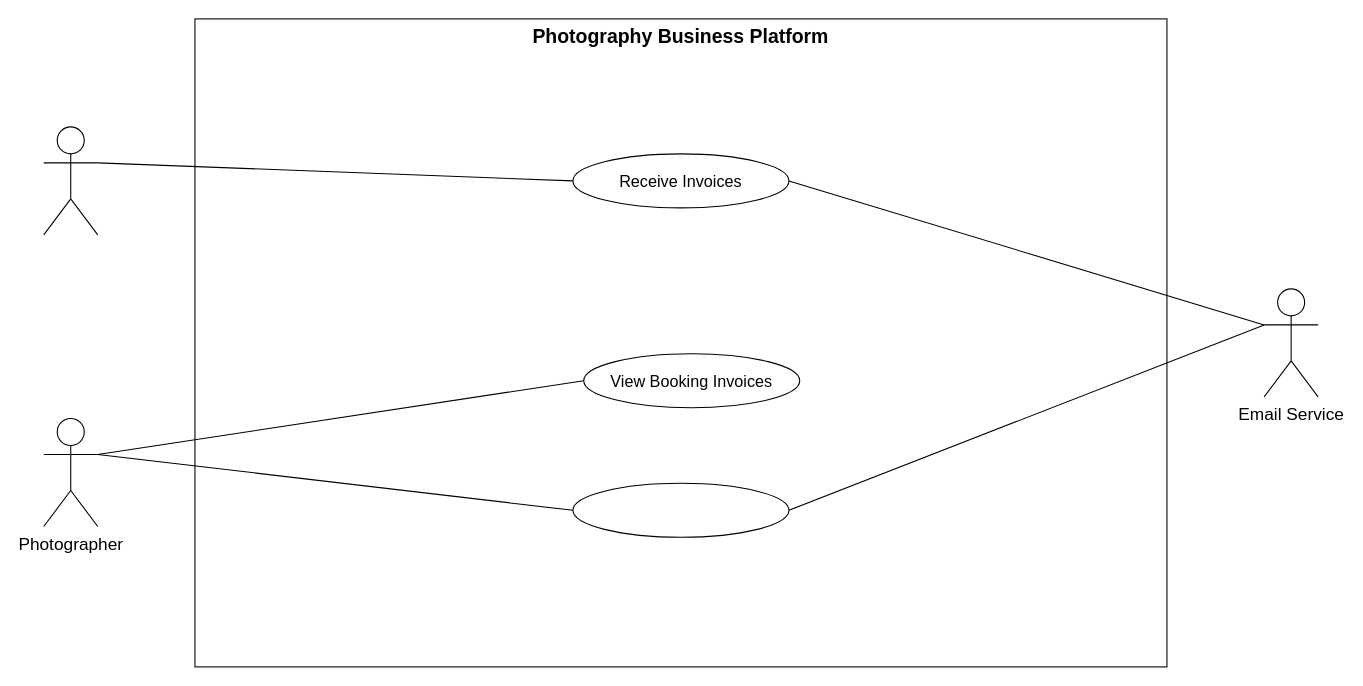
Some shapes in this 1363 by 686 pixel diagram are drawn without their labels. Each missing label, with the box of its shape:
Client: (43, 126, 98, 235)
Manage Invoices: (572, 482, 789, 537)
